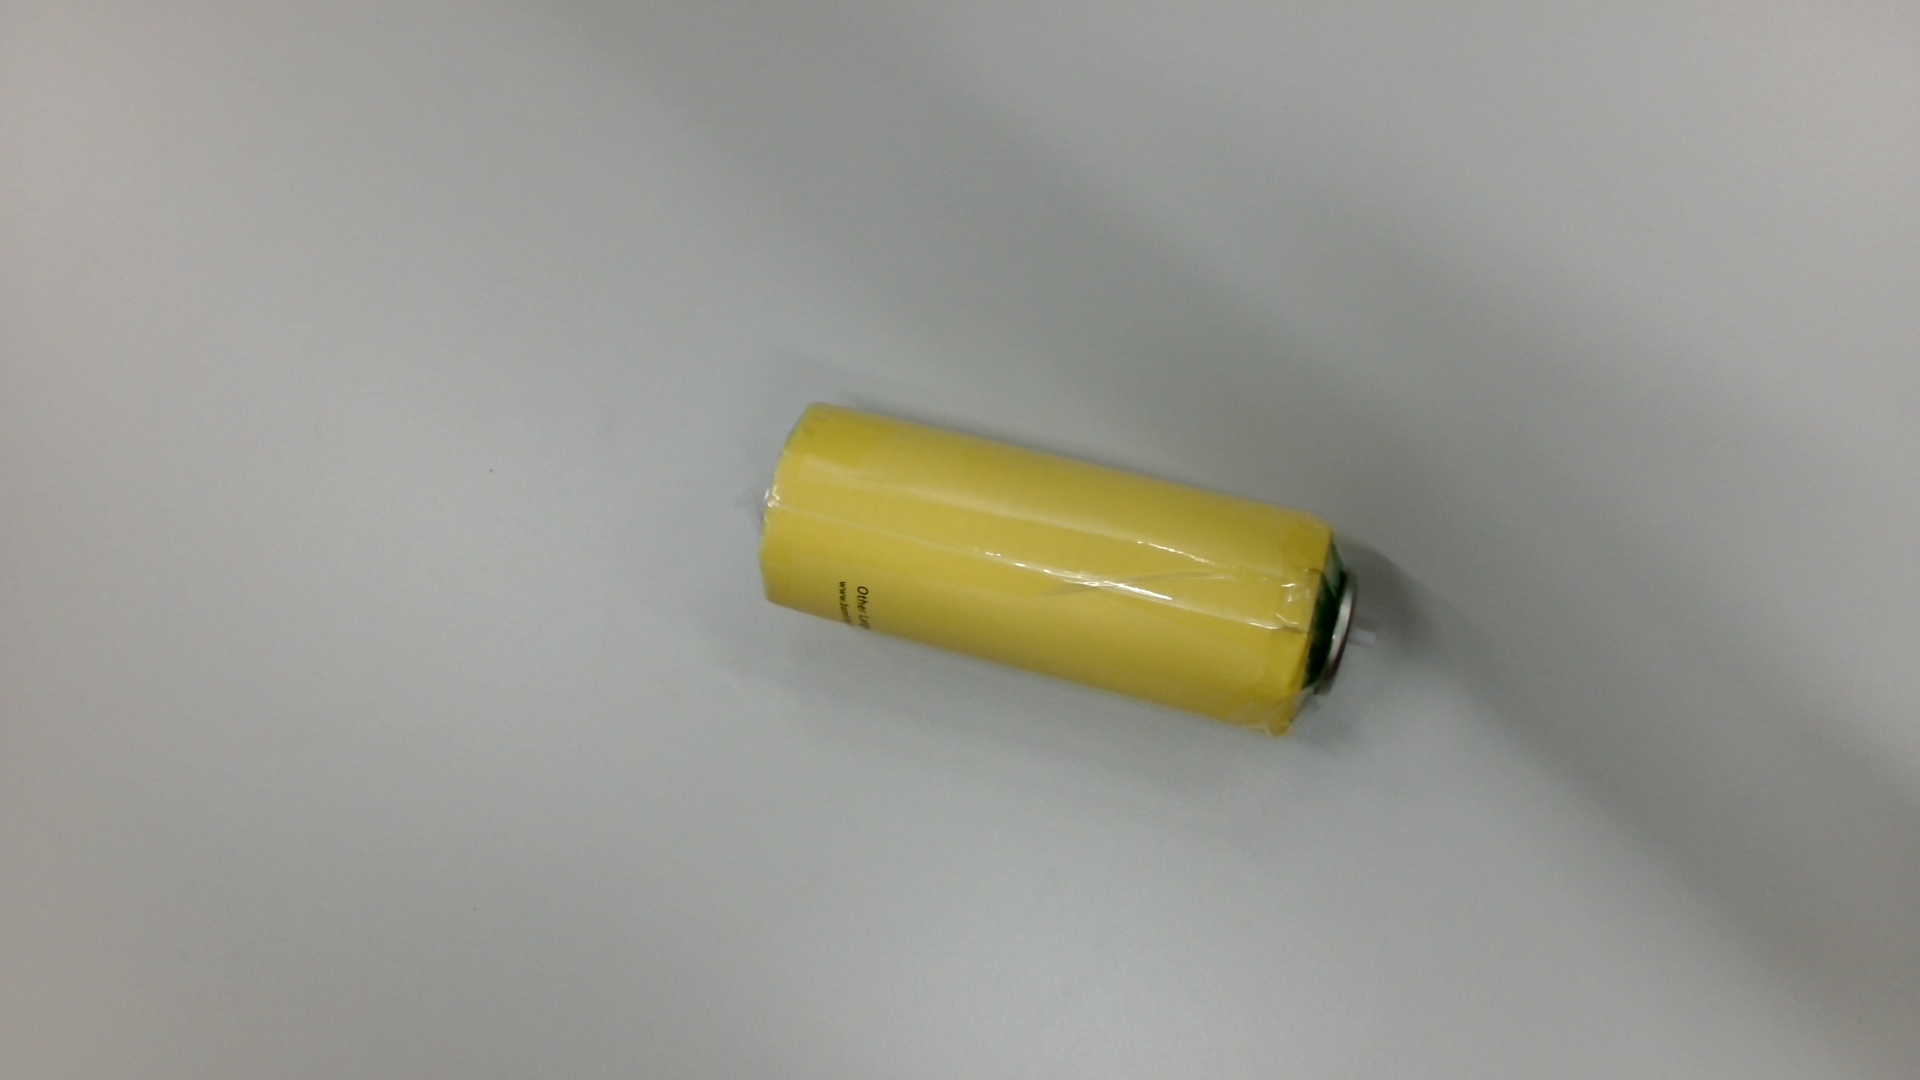Cylinder: (745, 396, 1390, 756)
